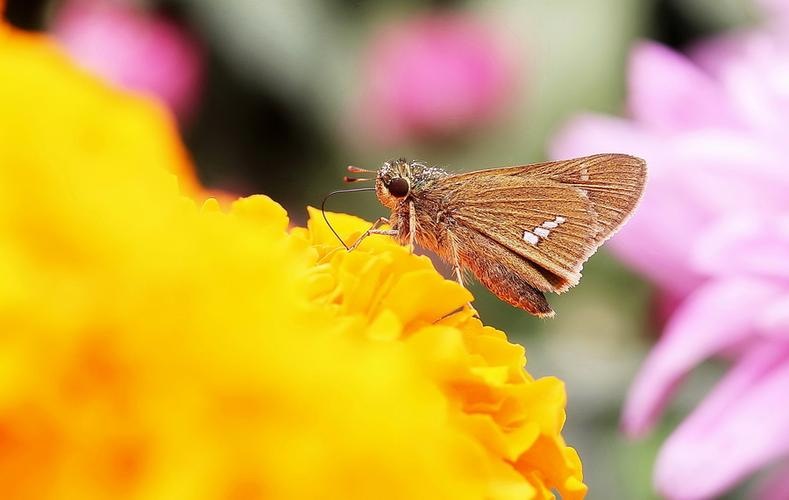Hesperiidae: (318, 151, 650, 321)
